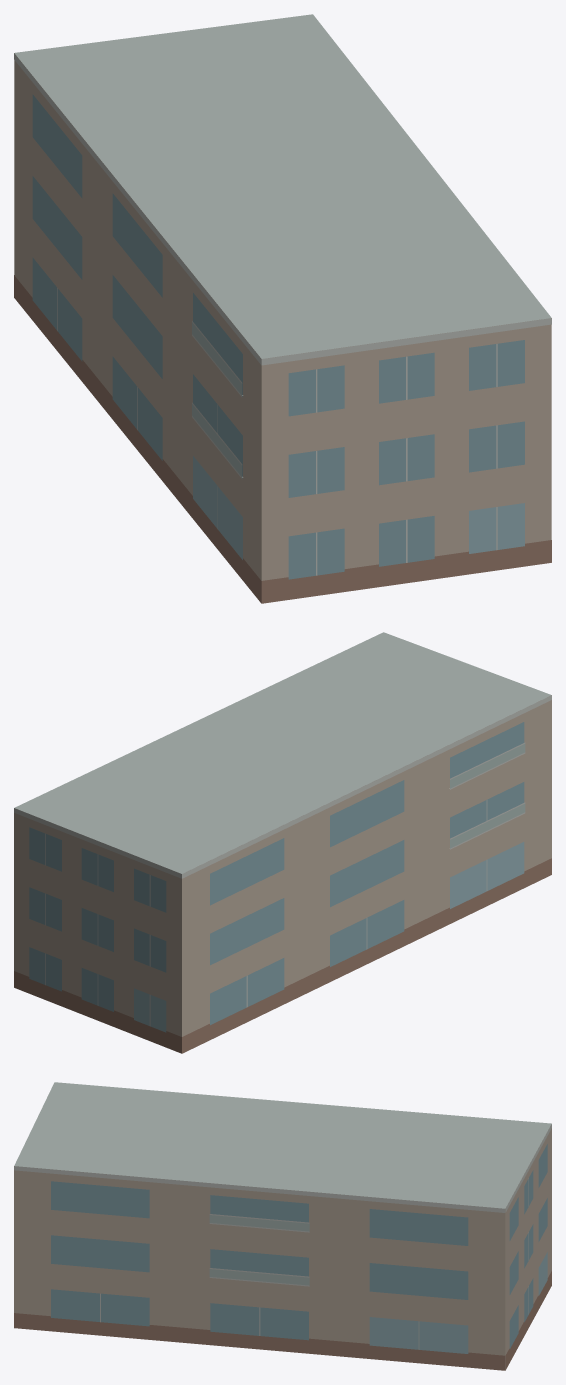
Rendered from survey-upis-33003880.glb.
3 renders of one model, top to bottom at view 1: azimuth 30°, elevation 25°; view 2: azimuth 150°, elevation 25°; view 3: azimuth 270°, elevation 25°, orthographic. The views are drawn at different scales.
Visible parts, largest first — view 1: survey-upis-33003880.tmp; view 2: survey-upis-33003880.tmp; view 3: survey-upis-33003880.tmp.
Part boxes in pixels (x1,y1,x2,y2): survey-upis-33003880.tmp: [14, 14, 551, 603]; survey-upis-33003880.tmp: [14, 632, 551, 1053]; survey-upis-33003880.tmp: [14, 1082, 551, 1370].
Size of the model in its own units: 15.34 by 9.15 by 27.53.
